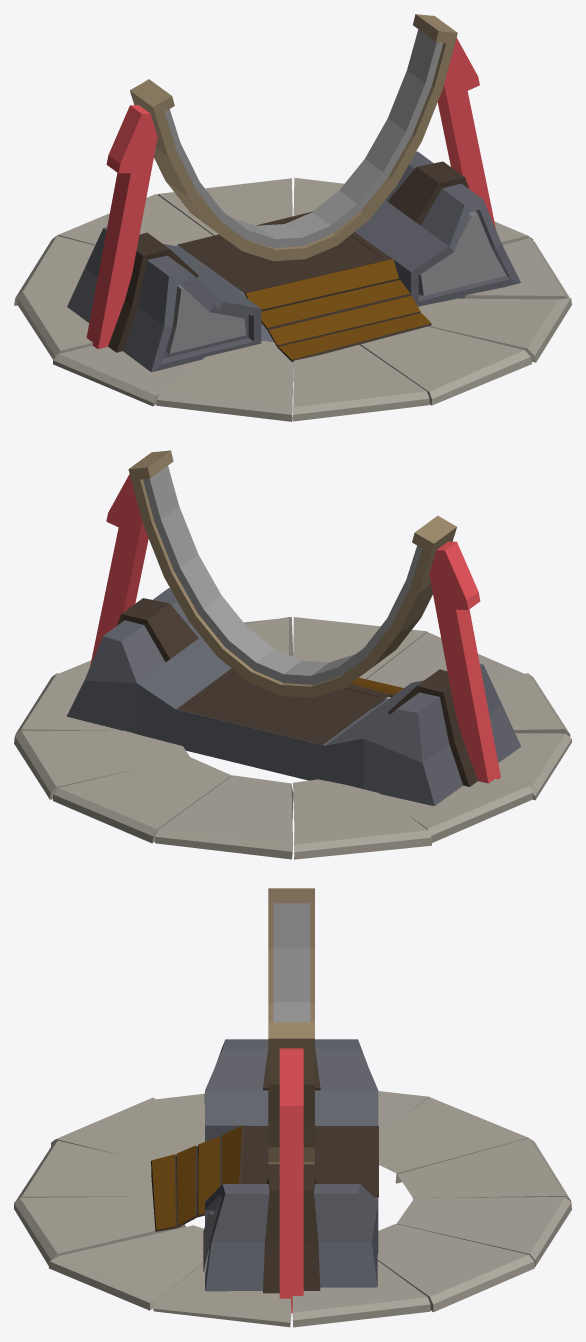
The picture shows the model from 3 angles, top to bottom: view 1: azimuth 30°, elevation 25°; view 2: azimuth 150°, elevation 25°; view 3: azimuth 270°, elevation 25°; orthographic projection.
Parts seen in each view (by area): view 1: Circle.001, Cube.002; view 2: Circle.001, Cube.002; view 3: Circle.001, Cube.002.
Part boxes in pixels (x1,y1,x2,y2): Circle.001: (14, 14, 571, 421); Cube.002: (86, 38, 495, 348); Circle.001: (14, 450, 571, 859); Cube.002: (90, 474, 500, 783); Circle.001: (14, 888, 571, 1327); Cube.002: (279, 1048, 303, 1313).
Size of the model in its own units: 163 by 83.6 by 162.
